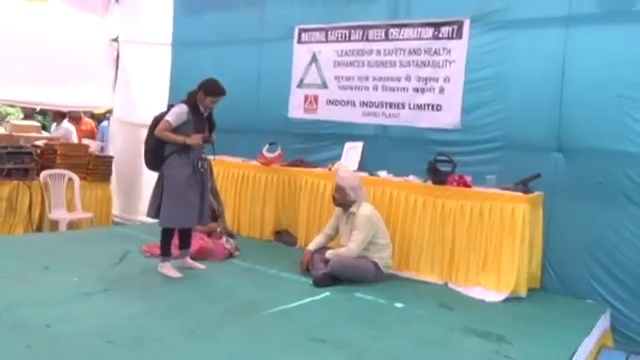helmet_off: (193, 78, 227, 113), (330, 172, 361, 209)
person: (143, 77, 226, 279), (299, 170, 394, 290), (190, 158, 237, 259), (46, 106, 78, 145), (66, 107, 96, 144), (12, 102, 44, 130), (97, 110, 114, 148)
